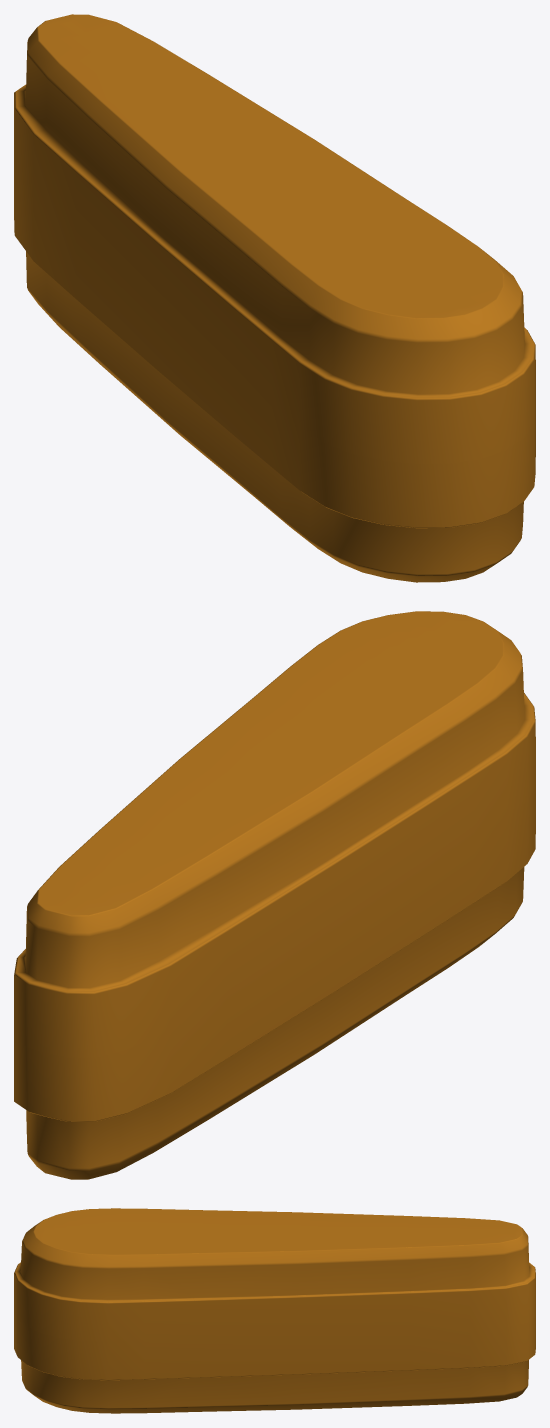
File: Flipper.fbx
3 views of the same model, one above another, from view 1: azimuth 30°, elevation 25°; view 2: azimuth 150°, elevation 25°; view 3: azimuth 270°, elevation 25° (orthographic). The views are drawn at different scales.
Parts seen in each view (by area): view 1: Flipper; view 2: Flipper; view 3: Flipper.
Part boxes in pixels (x1,y1,x2,y2): Flipper: [14, 14, 535, 582]; Flipper: [14, 611, 535, 1179]; Flipper: [14, 1208, 535, 1413].
Bounding box in the file's own units: 2.27 × 2.74 × 8.16.
